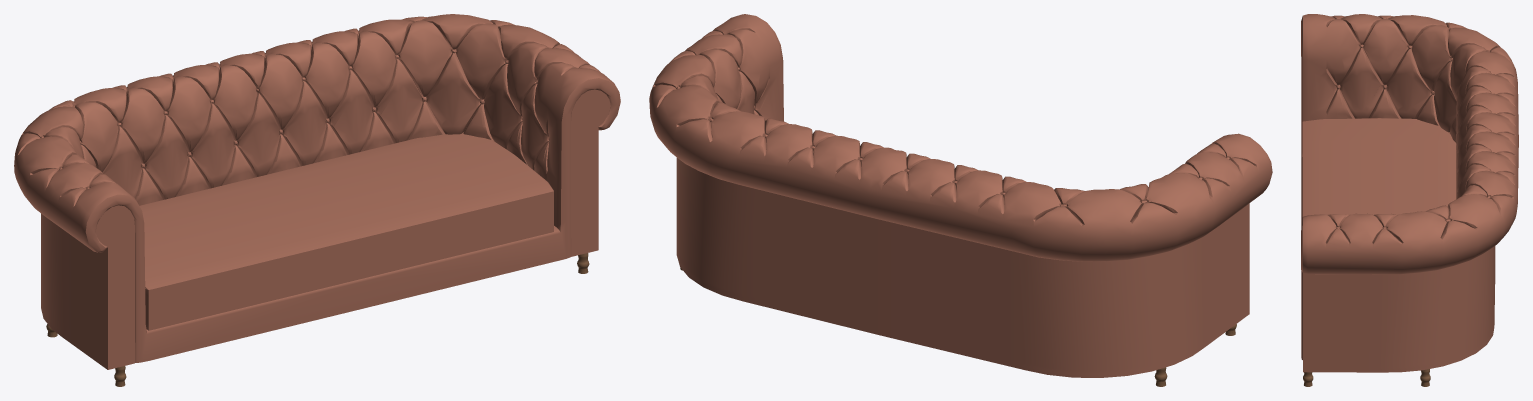
Rendered from sh_blend_swap_cc_0_winchestersofa.glb.
3 renders of one model, left to right at view 1: azimuth 30°, elevation 25°; view 2: azimuth 150°, elevation 25°; view 3: azimuth 270°, elevation 25°, orthographic. The views are drawn at different scales.
Size of the model in its own units: 2.32 by 0.804 by 0.938.
